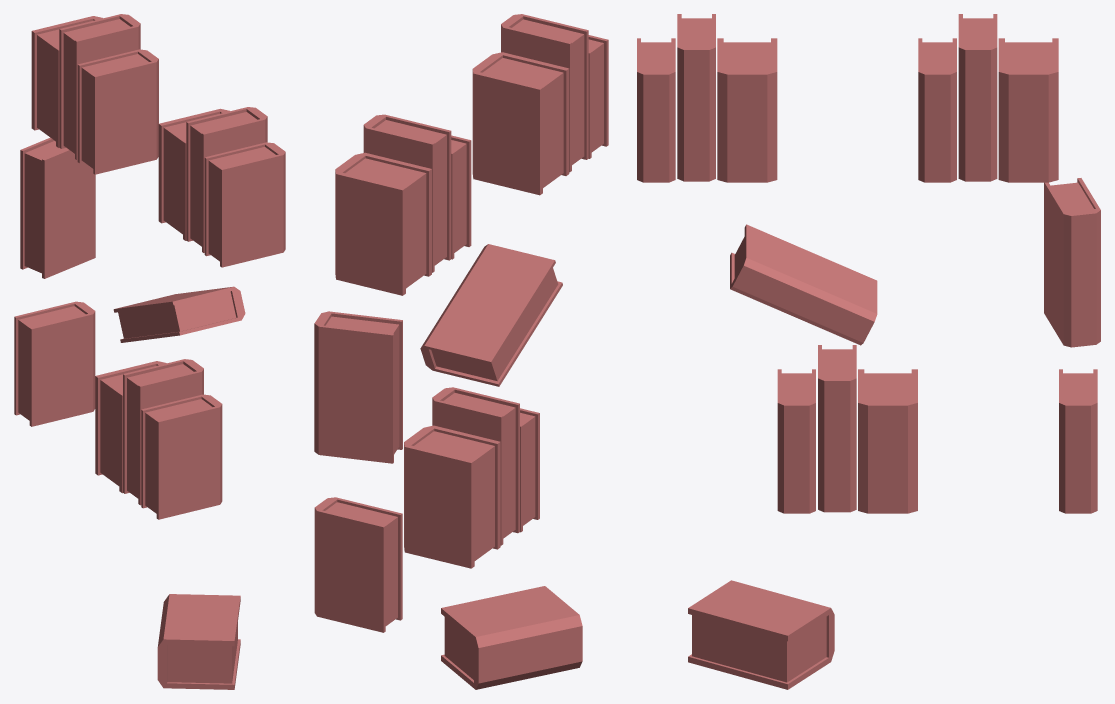
Rendered from BooksVar.fbx.
3 views of the same model, side by side, from view 1: azimuth 30°, elevation 25°; view 2: azimuth 150°, elevation 25°; view 3: azimuth 270°, elevation 25° (orthographic). The views are drawn at different scales.
Parts seen in each view (by area): view 1: BooksVar; view 2: BooksVar; view 3: BooksVar.
Part boxes in pixels (x1,y1,x2,y2): BooksVar: (14,14,285,689); BooksVar: (314,14,608,689); BooksVar: (637,14,1100,689).
Size of the model in its own units: 0.4484 by 2.28 by 1.52.
